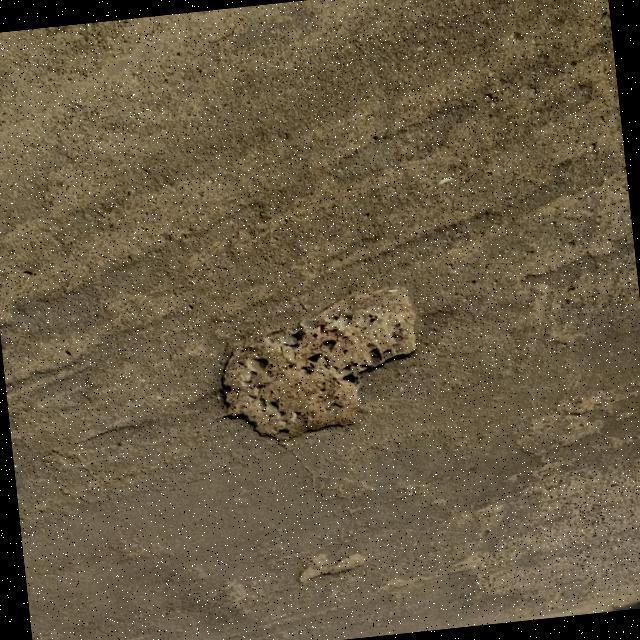Pothole: (219, 283, 416, 444)
